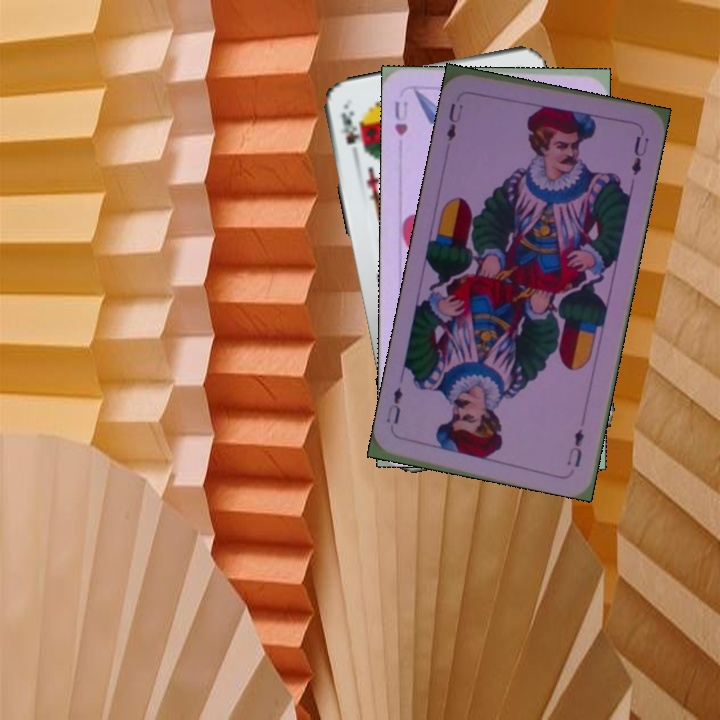EU: (563, 424, 587, 470), (442, 99, 466, 144)
HU: (390, 97, 410, 138)
SK: (335, 107, 362, 147)
